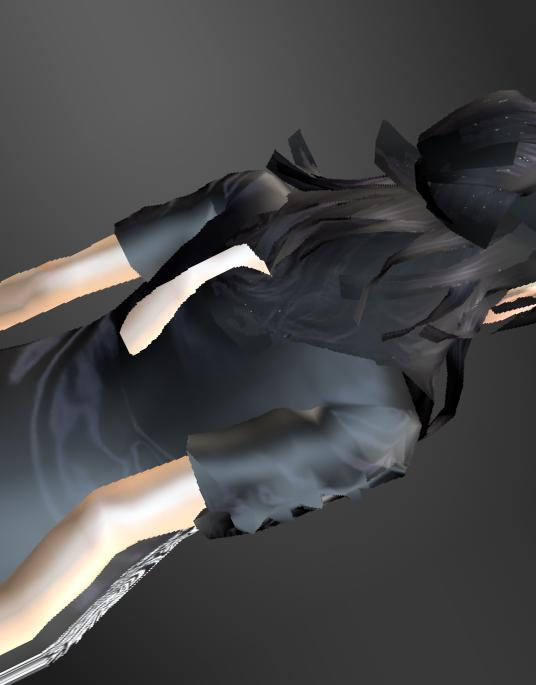clip: (184, 243, 273, 290)
